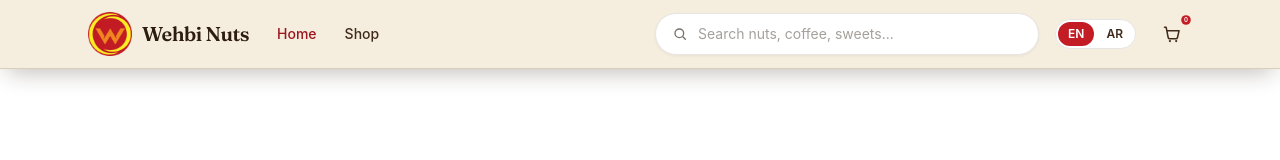
StorefrontHeader › language switcher › switching back from AR to EN restores the English header text
Click the button "AR" at (1115, 34), box [1096, 22, 1133, 46]
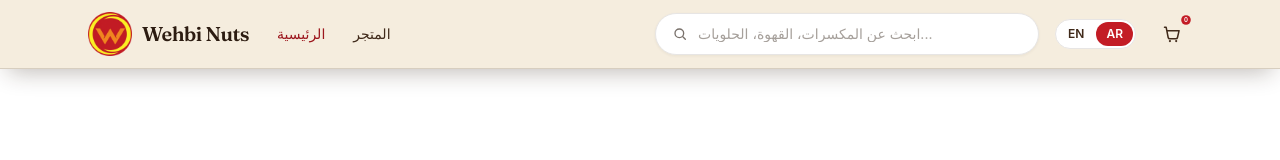
Click the button "EN" at (1076, 34), box [1058, 22, 1094, 46]
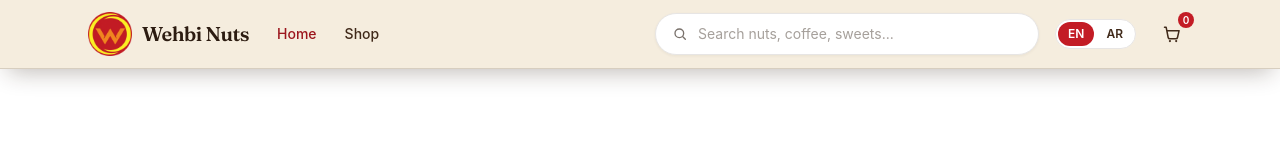
Expected: the link "Shop" is shown, [345, 25, 379, 42]
Now the link "Home" is shown, box [277, 25, 316, 42]
